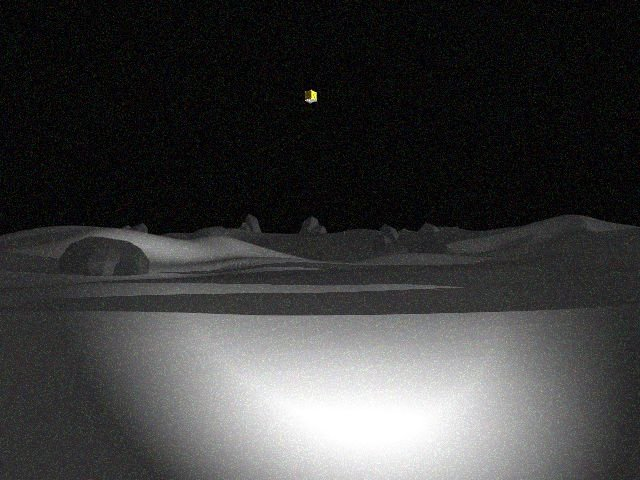cubesat: (301, 89, 320, 104)
